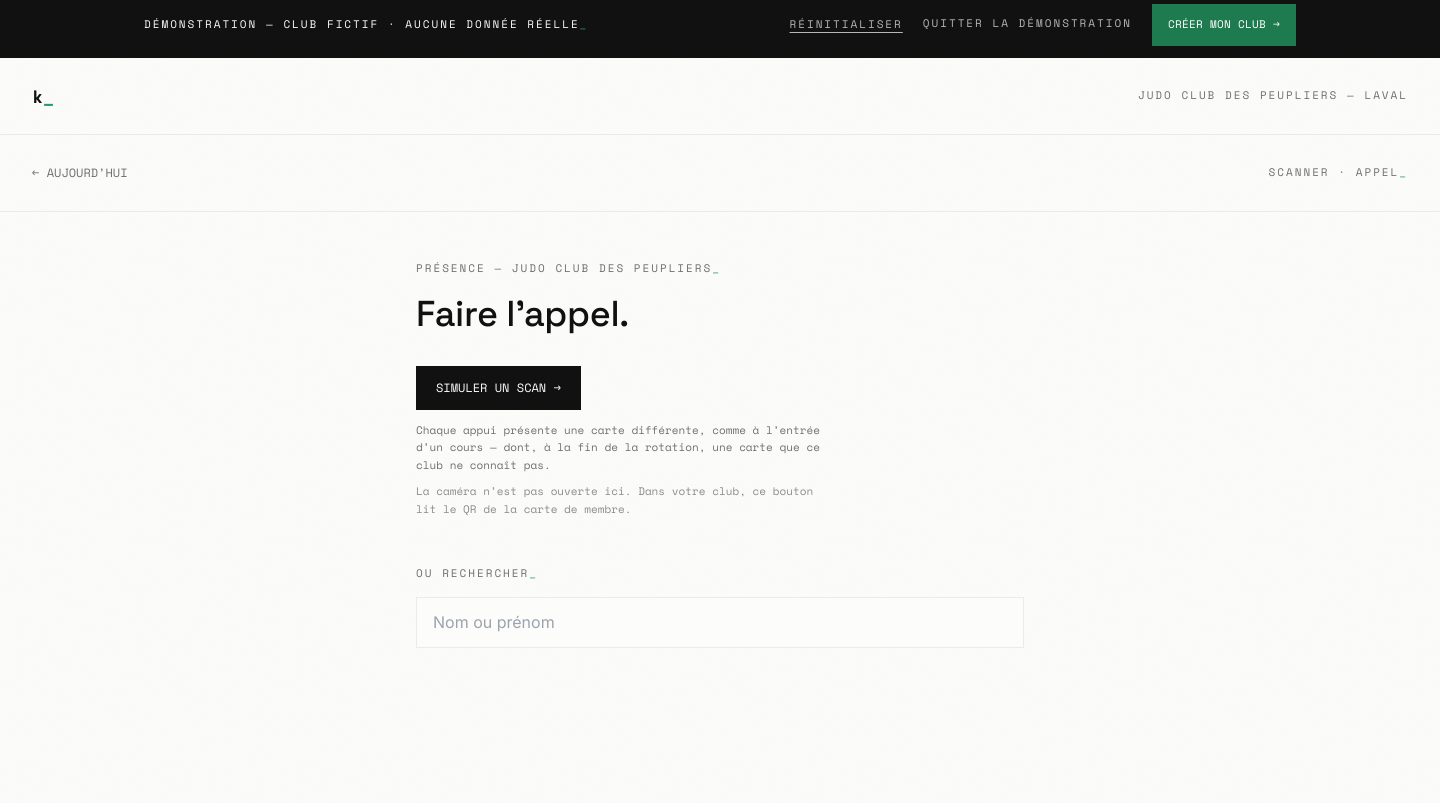
Test: l’écran de contrôle › présente ensuite une cotisation en attente, puis un dossier incomplet
The image size is (1440, 803).
Step 1. Click the button "SIMULER UN SCAN →" → {"x": 498, "y": 388}, box [416,366,581,410]
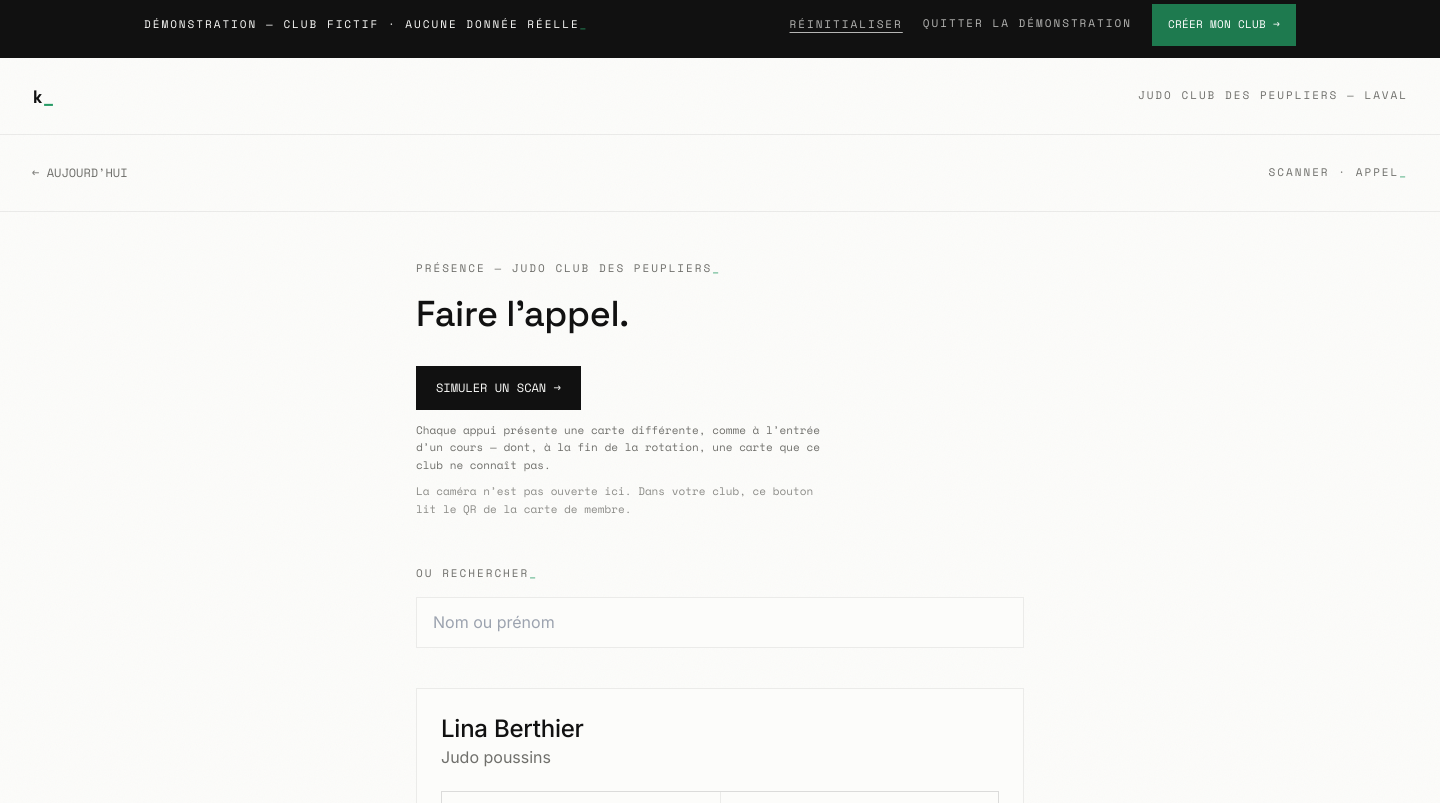
Step 2. Click the button "SIMULER UN SCAN →" → {"x": 498, "y": 388}, box [416,366,581,410]
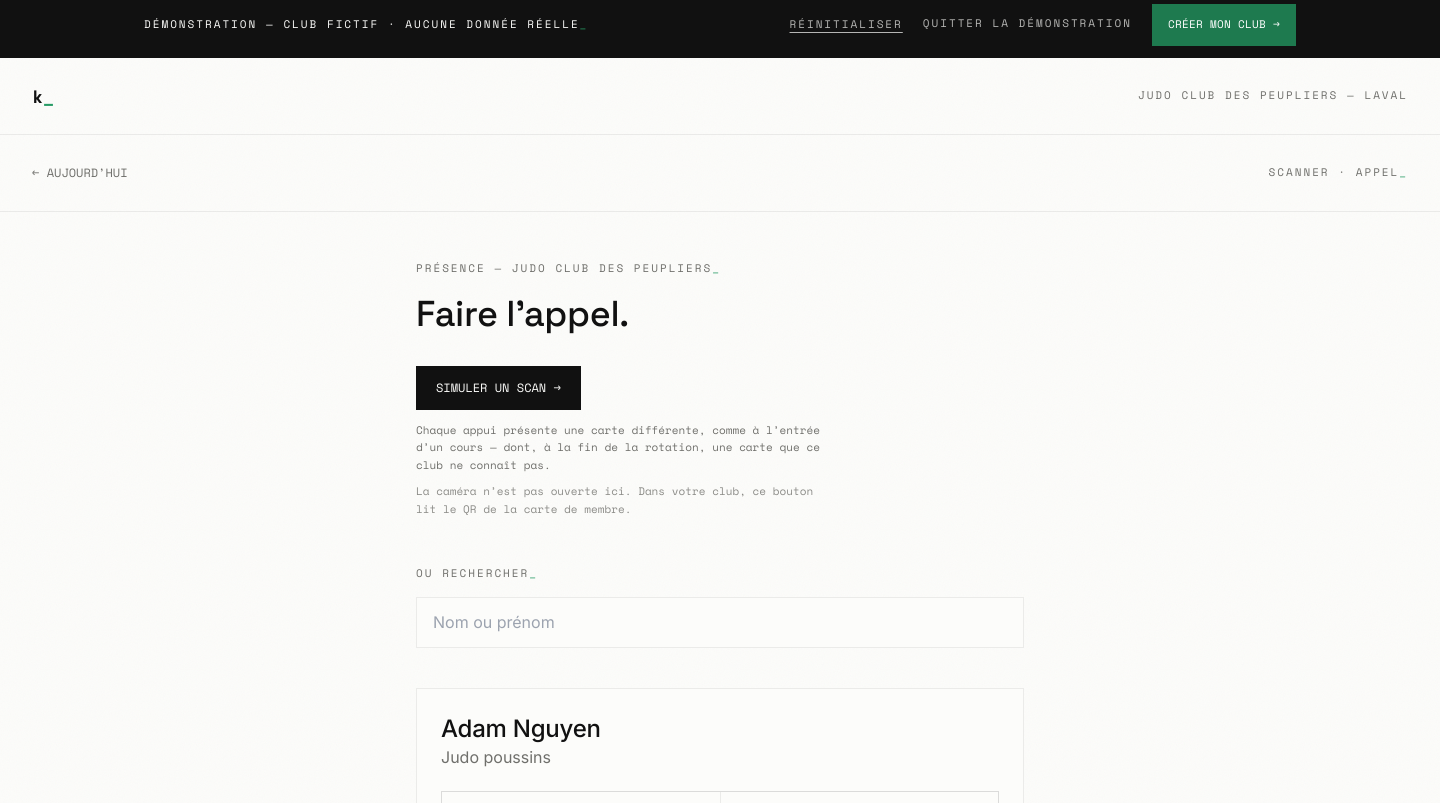
Expected: the text "Adam Nguyen" is shown, [441,714,601,743]
Step 3. Click the button "SIMULER UN SCAN →" → {"x": 498, "y": 388}, box [416,366,581,410]
(page scrolled)
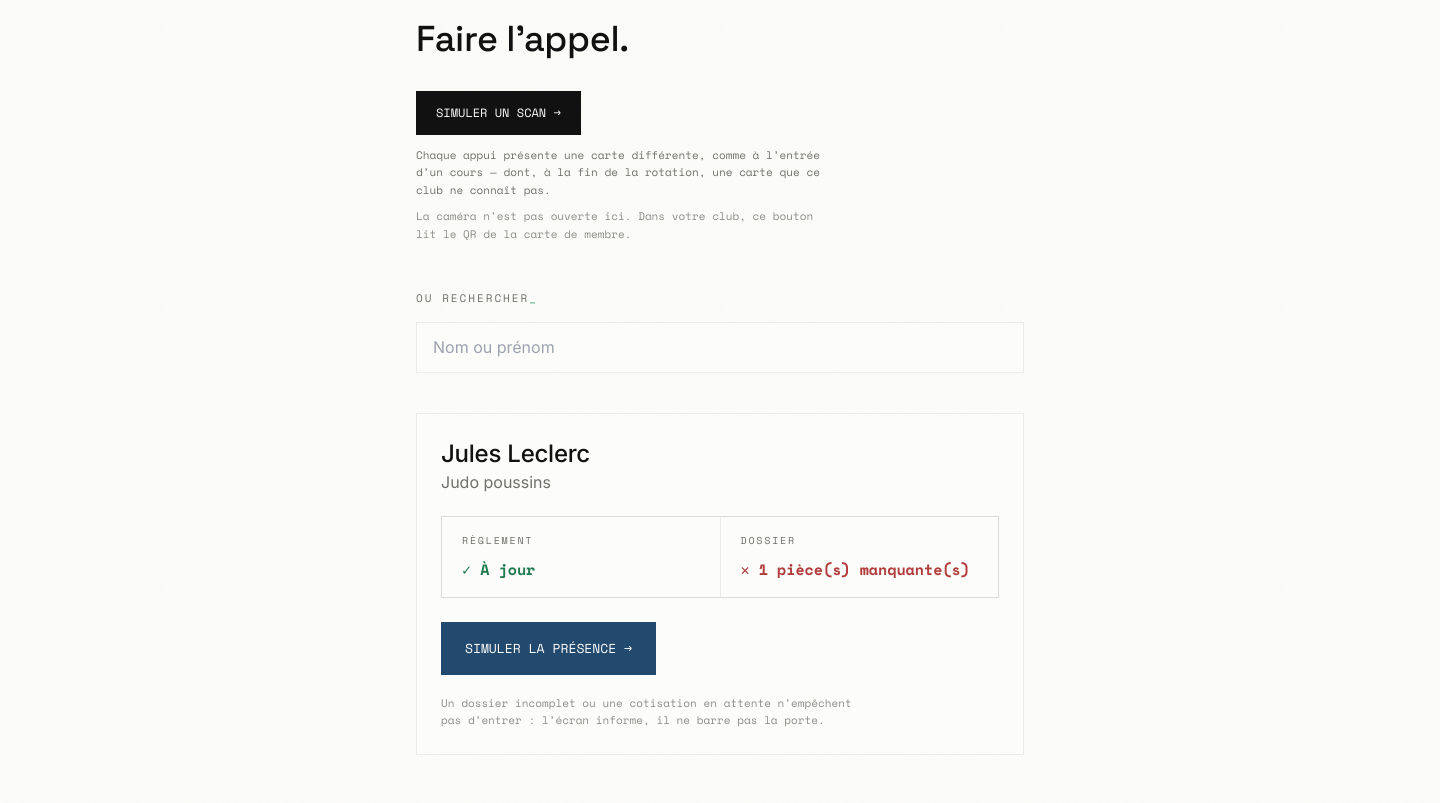
Expected: the text "Jules Leclerc" is shown, [441,439,590,468]
Expected: the text "✕ 1 pièce(s) manquante(s)" is shown, [740,557,978,581]
Expected: the text "✓ À jour" is shown, [462,558,535,580]
